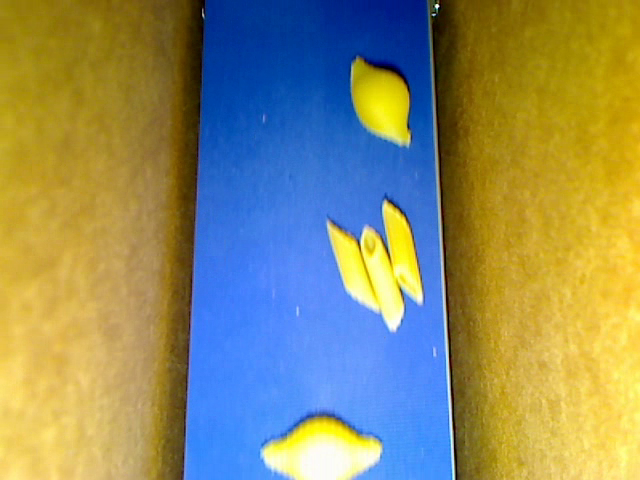penne: (325, 220, 380, 313), (359, 224, 403, 333), (381, 198, 423, 305)
shell: (259, 415, 383, 479), (351, 56, 410, 145)
